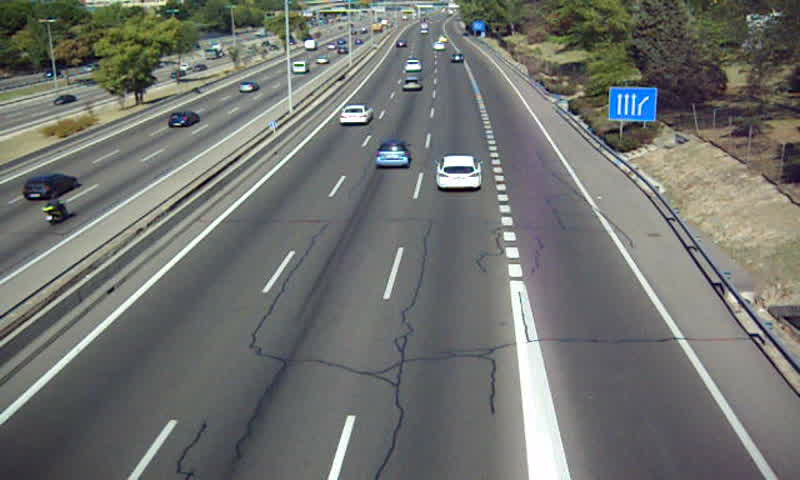car: (435, 155, 482, 190), (377, 141, 411, 167), (340, 106, 372, 124), (403, 78, 422, 93), (404, 58, 421, 72), (450, 52, 466, 64)
